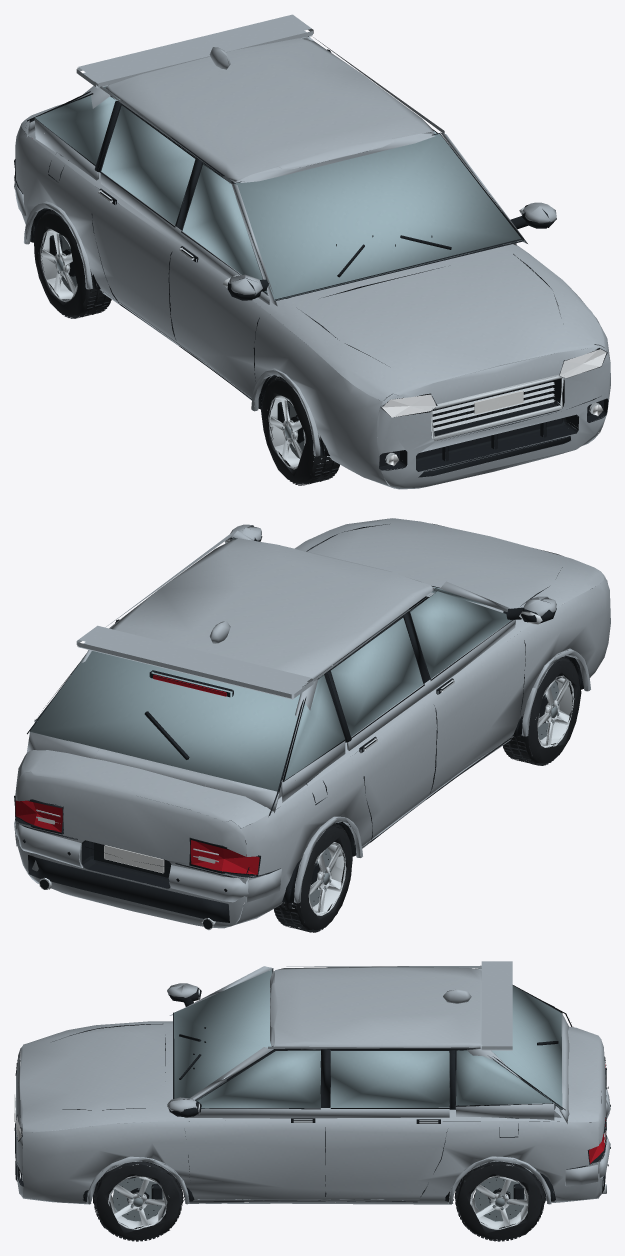
Rendered from SilverFiveDoorCompactHatchback.fbx.
3 renders of one model, top to bottom at view 1: azimuth 30°, elevation 25°; view 2: azimuth 150°, elevation 25°; view 3: azimuth 270°, elevation 25°, orthographic. The views are drawn at different scales.
Visible parts, largest first — view 1: SilverFiveDoorCompactHatchback, wheel2, wheel4; view 2: SilverFiveDoorCompactHatchback, wheel4, wheel2; view 3: SilverFiveDoorCompactHatchback, wheel3, wheel1.
Boxes of the visible parts, box(x1,y1,x2,y2) form: SilverFiveDoorCompactHatchback: box(14, 14, 610, 489); wheel2: box(261, 378, 339, 483); wheel4: box(34, 209, 110, 318); SilverFiveDoorCompactHatchback: box(14, 518, 610, 932); wheel4: box(274, 824, 352, 931); wheel2: box(503, 658, 581, 764); SilverFiveDoorCompactHatchback: box(14, 961, 610, 1241); wheel3: box(454, 1161, 545, 1240); wheel1: box(93, 1161, 184, 1240).
Size of the model in its own units: 212 by 160 by 426.
Materials: 10 (10 with a texture image).
